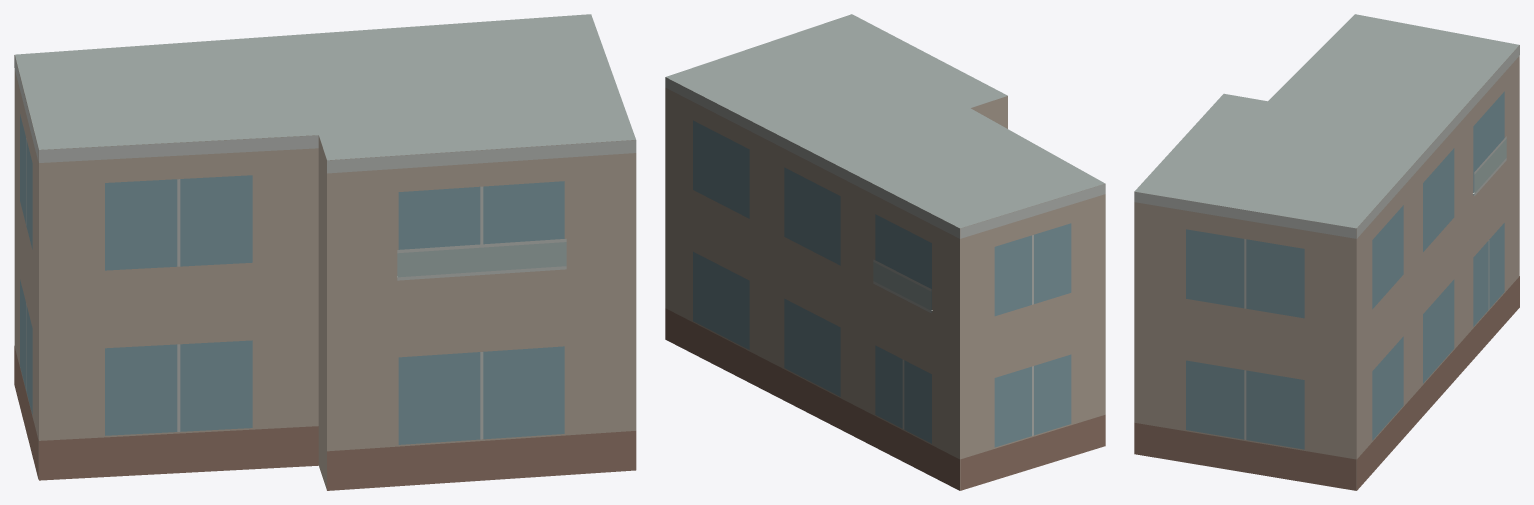
File: survey-upis-32810668.glb
3 renders of one model, left to right at view 1: azimuth 30°, elevation 25°; view 2: azimuth 150°, elevation 25°; view 3: azimuth 270°, elevation 25°, orthographic. The views are drawn at different scales.
Visible parts, largest first — view 1: survey-upis-32810668.tmp; view 2: survey-upis-32810668.tmp; view 3: survey-upis-32810668.tmp.
Part boxes in pixels (box(x1,y1,x2,y2)): survey-upis-32810668.tmp: box(14, 14, 636, 490); survey-upis-32810668.tmp: box(665, 14, 1105, 490); survey-upis-32810668.tmp: box(1134, 14, 1519, 490).
Bounding box in the file's own units: 10.7 × 6.1 × 8.13.
